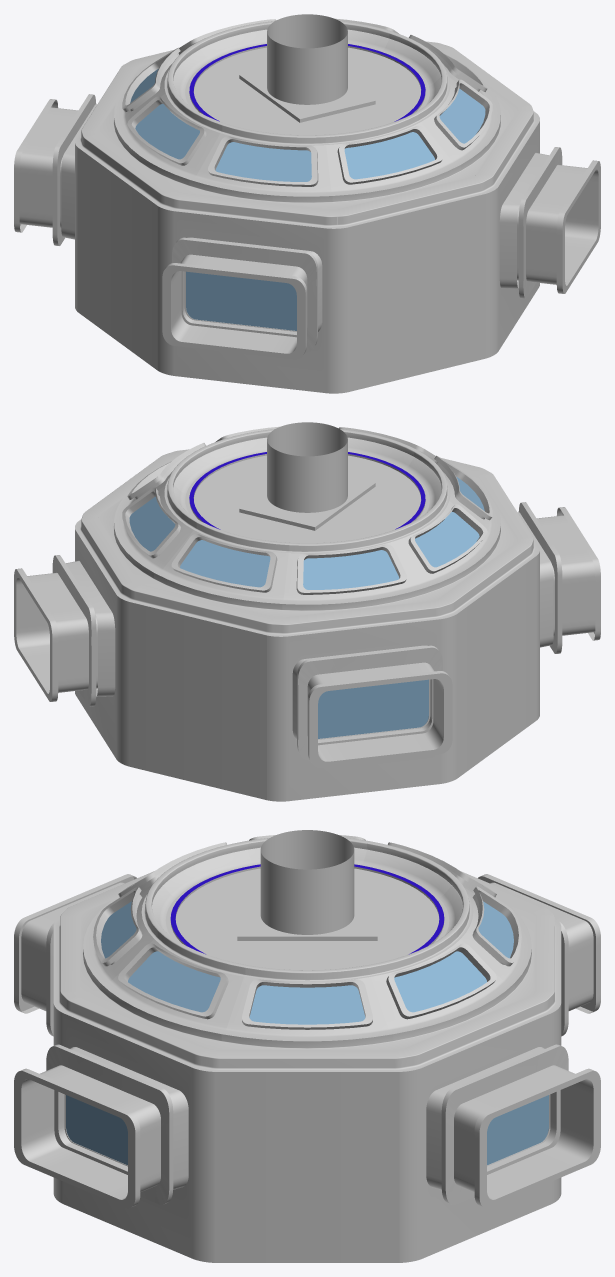
The model's file is FBX_SS_Module1_6x6.fbx.
3 views of the same model, one above another, from view 1: azimuth 30°, elevation 25°; view 2: azimuth 150°, elevation 25°; view 3: azimuth 270°, elevation 25° (orthographic). The views are drawn at different scales.
Visible parts, largest first — view 1: Walls_Plain, Ceiling_Windowed.003, Walls_Plain.001, Ceiling_InnerFace; view 2: Walls_Plain, Ceiling_Windowed.003, Walls_Plain.001, Ceiling_InnerFace; view 3: Ceiling_Windowed.003, Walls_Plain, Walls_Plain.001, Ceiling_InnerFace.
Boxes of the visible parts, <box> form: Walls_Plain: <box>75,121,539,393</box>; Ceiling_Windowed.003: <box>75,18,539,228</box>; Walls_Plain.001: <box>14,94,600,359</box>; Ceiling_InnerFace: <box>185,14,429,135</box>; Walls_Plain: <box>75,529,539,801</box>; Ceiling_Windowed.003: <box>75,426,539,636</box>; Walls_Plain.001: <box>14,502,600,767</box>; Ceiling_InnerFace: <box>185,422,429,543</box>; Ceiling_Windowed.003: <box>53,835,561,1071</box>; Walls_Plain: <box>53,1004,561,1262</box>; Walls_Plain.001: <box>14,874,600,1208</box>; Ceiling_InnerFace: <box>165,830,449,970</box>.
Bounding box in the file's own units: 752 × 533 × 752.
